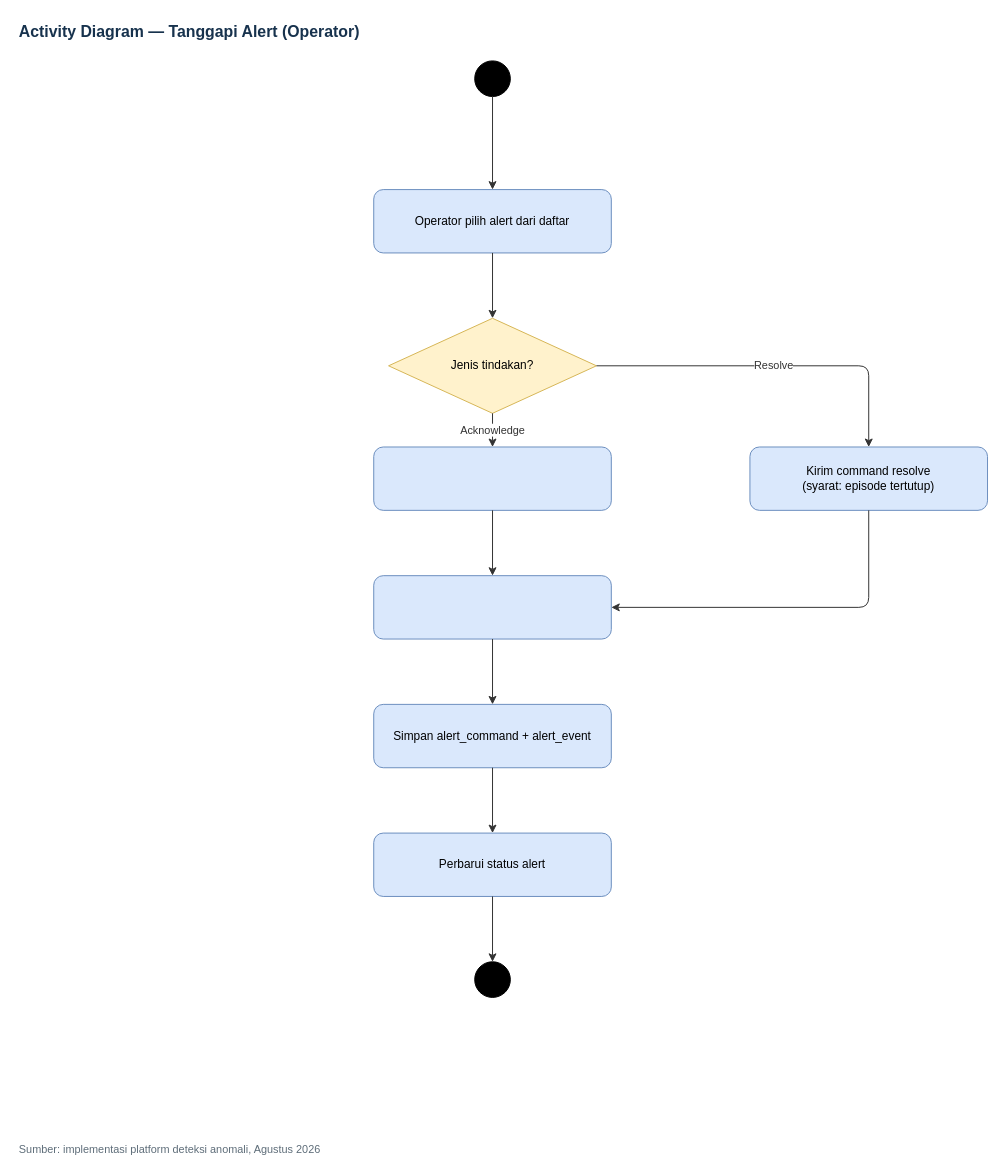
The diagram is 1005 pixels wide and 1176 high, and some of its shapes have lost their labels. Each missing label, with the centre of its shape:
"Kirim command acknowledge" belongs at point 492,478.
"Validasi transisi lifecycle" belongs at point 492,607.
